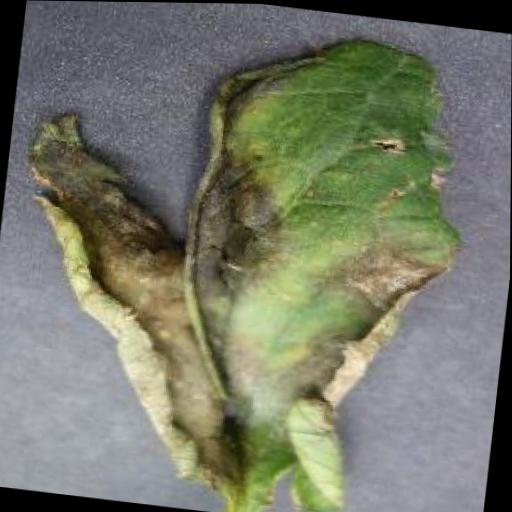Late Blight: (0, 0, 481, 512)
